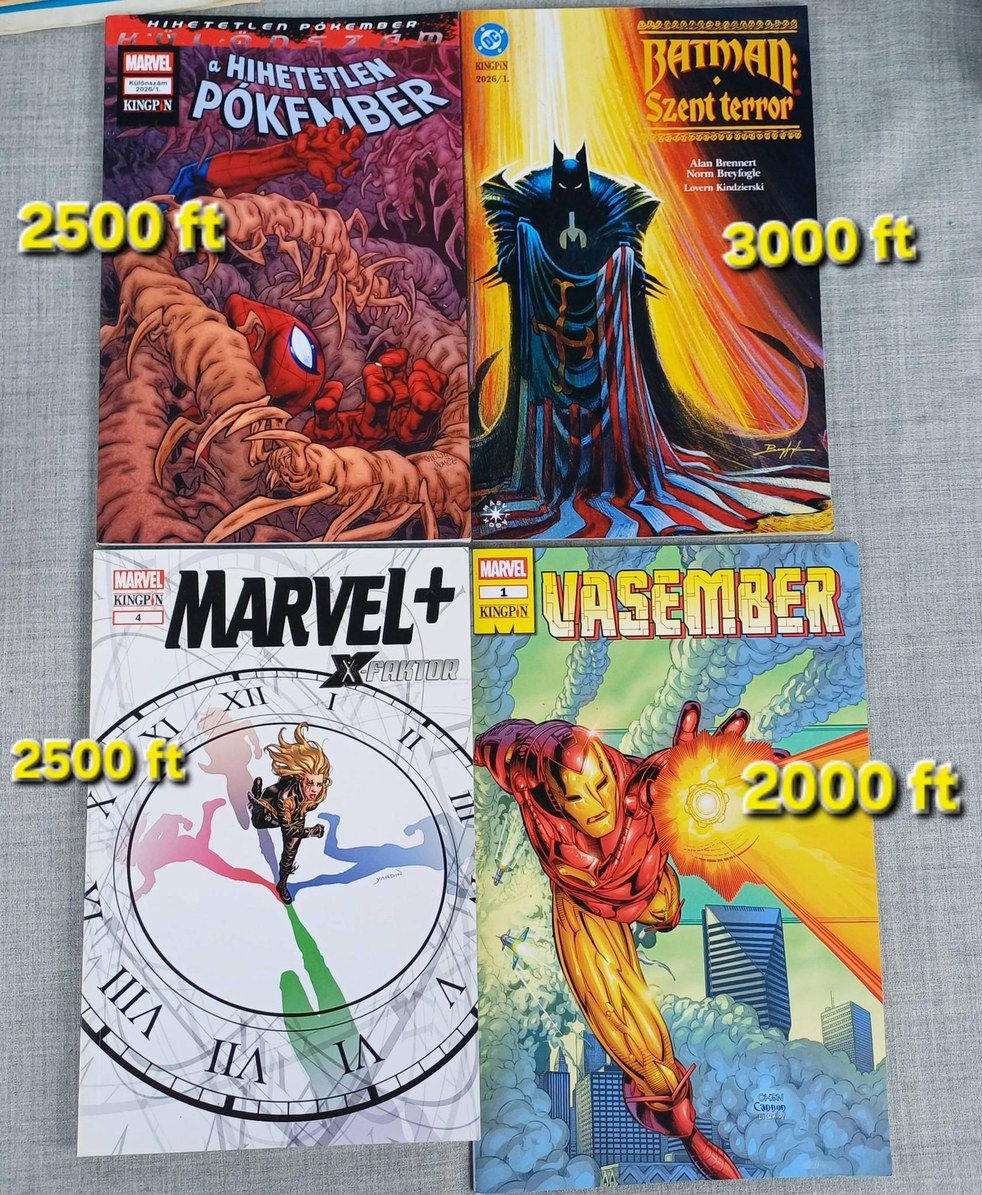comic: (456, 535, 890, 1193), (74, 545, 477, 1154), (93, 13, 468, 545), (461, 3, 831, 541)
